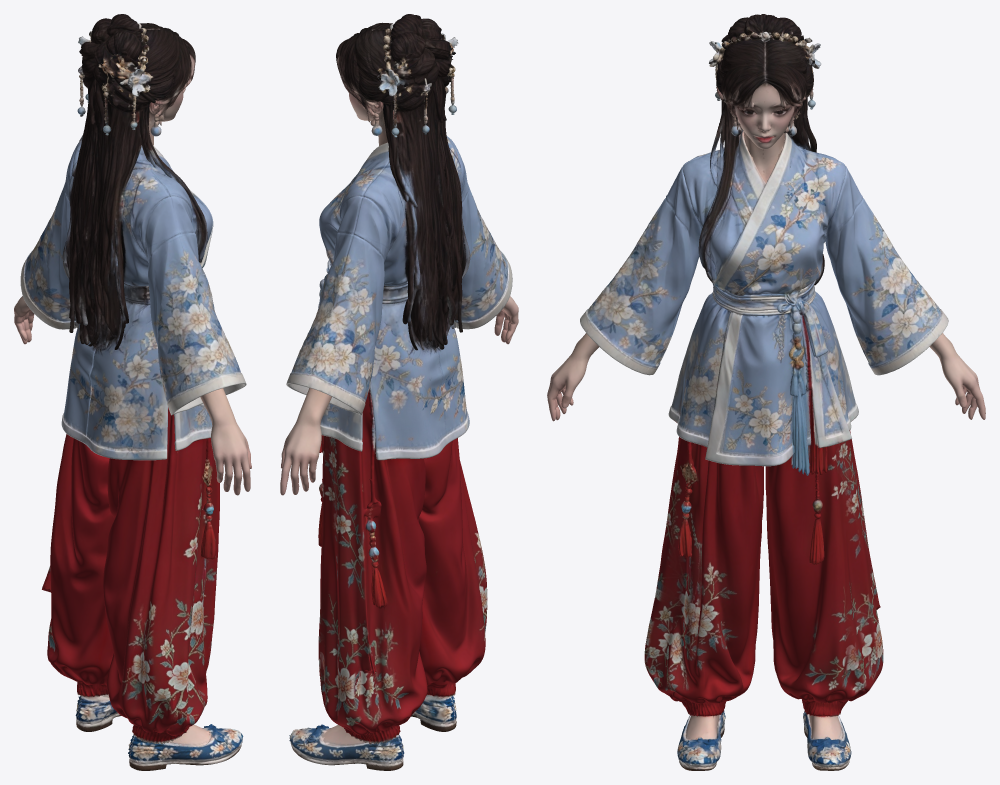
Rendered from HanfuBlueRed_NoRig.fbx.fbx.
3 renders of one model, left to right at view 1: azimuth 30°, elevation 25°; view 2: azimuth 150°, elevation 25°; view 3: azimuth 270°, elevation 25°, orthographic.
Visible parts, largest first — view 1: tripo_part_1, tripo_part_0, tripo_part_18, tripo_part_2, tripo_part_5, tripo_part_29, tripo_part_4, tripo_part_36, tripo_part_23, tripo_part_11, tripo_part_20, tripo_part_34 (+3 smaller); view 2: tripo_part_2, tripo_part_0, tripo_part_1, tripo_part_4, tripo_part_18, tripo_part_29, tripo_part_5, tripo_part_38, tripo_part_11, tripo_part_23, tripo_part_21, tripo_part_36 (+5 smaller); view 3: tripo_part_2, tripo_part_1, tripo_part_18, tripo_part_29, tripo_part_4, tripo_part_5, tripo_part_0, tripo_part_21, tripo_part_34, tripo_part_38, tripo_part_36, tripo_part_23 (+2 smaller).
Part boxes in pixels (x1,y1,x2,y2): tripo_part_1: (103,407,219,744); tripo_part_0: (62,14,207,349); tripo_part_18: (61,301,215,559); tripo_part_2: (42,434,114,696); tripo_part_5: (139,195,246,415); tripo_part_29: (67,144,213,286); tripo_part_4: (20,163,78,329); tripo_part_36: (200,388,251,495); tripo_part_23: (128,724,243,770); tripo_part_11: (75,695,118,724); tripo_part_20: (119,61,153,129); tripo_part_34: (148,88,185,145); tripo_part_2: (318,387,427,744); tripo_part_0: (336,14,470,350); tripo_part_1: (419,438,487,698); tripo_part_4: (286,195,391,415); tripo_part_18: (320,300,469,460); tripo_part_29: (319,136,464,285); tripo_part_5: (454,163,512,329); tripo_part_38: (280,388,331,495); tripo_part_11: (289,724,404,764); tripo_part_23: (411,695,456,731); tripo_part_21: (318,260,407,546); tripo_part_36: (494,296,518,344); tripo_part_2: (765,430,883,716); tripo_part_1: (644,437,763,718); tripo_part_18: (668,291,858,557); tripo_part_29: (683,131,845,296); tripo_part_4: (825,166,948,375); tripo_part_5: (580,166,701,375); tripo_part_0: (698,14,824,285); tripo_part_21: (712,280,851,564); tripo_part_34: (731,82,796,182); tripo_part_38: (929,333,985,419); tripo_part_36: (547,333,598,421); tripo_part_23: (677,710,725,770).
Size of the model in its own units: 0.2095 by 1 by 0.5512.
23 materials, 23 textured.
